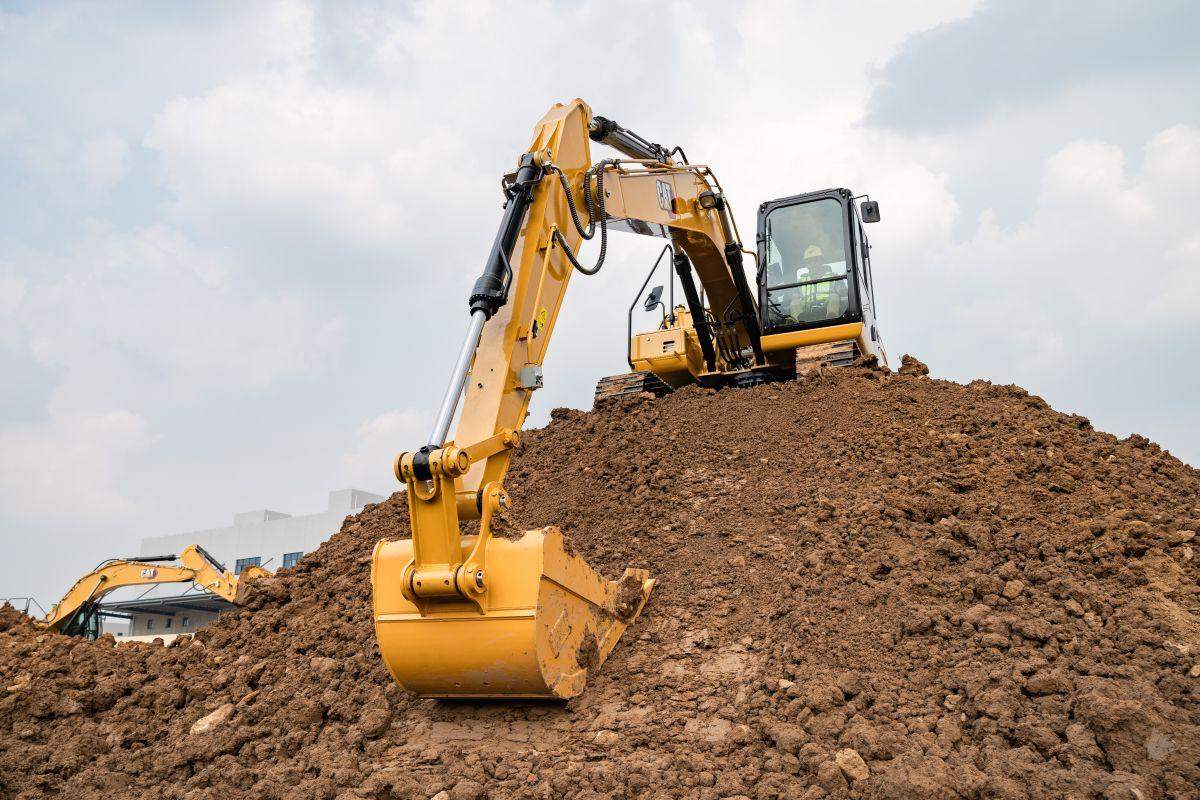excavator: (362, 97, 862, 696), (1, 540, 276, 647)
